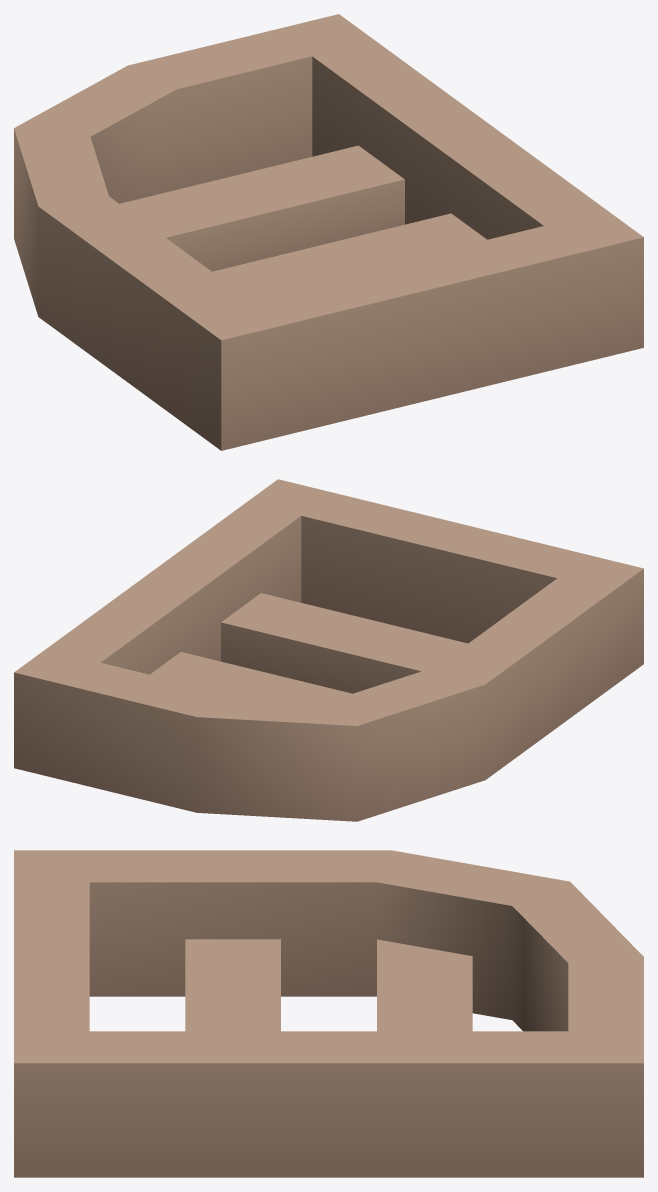
The model's file is soap-rack-rounded (%wall).glb.
3 renders of one model, top to bottom at view 1: azimuth 30°, elevation 25°; view 2: azimuth 150°, elevation 25°; view 3: azimuth 270°, elevation 25°, orthographic. The views are drawn at different scales.
Parts seen in each view (by area): view 1: soap-rack-rounded (%wall); view 2: soap-rack-rounded (%wall); view 3: soap-rack-rounded (%wall).
Boxes of the visible parts, x1,y1,x2,y2 form: soap-rack-rounded (%wall): (14,14,643,450); soap-rack-rounded (%wall): (14,479,643,821); soap-rack-rounded (%wall): (14,850,643,1177).
Bounding box in the file's own units: 0.2 × 0.05 × 0.25.
